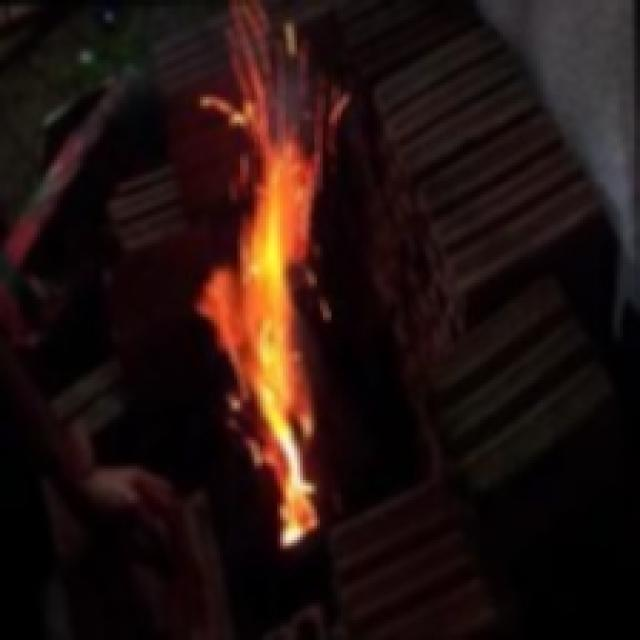fire: (170, 4, 387, 579)
